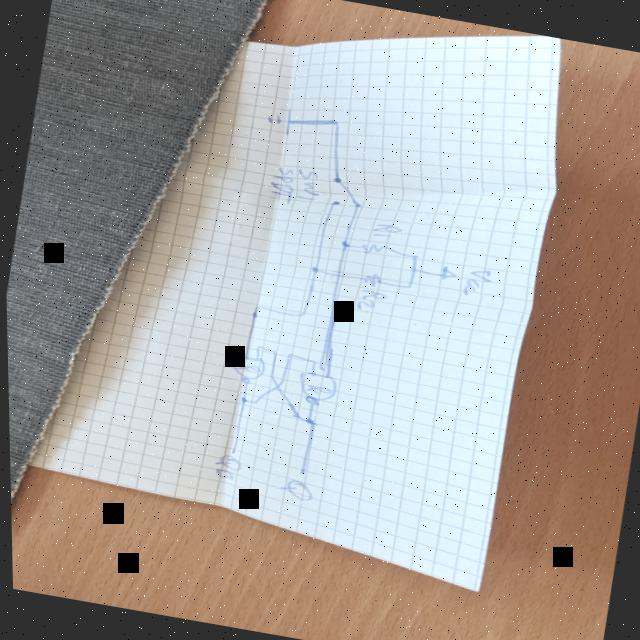crossover: (332, 270, 345, 278), (271, 382, 282, 389)
ground: (263, 102, 295, 134)
junction: (302, 415, 317, 425), (307, 264, 322, 274), (328, 116, 343, 126), (236, 394, 250, 404), (339, 238, 352, 248), (294, 308, 307, 317), (249, 301, 262, 309), (288, 410, 301, 418), (409, 265, 420, 273), (249, 398, 259, 404), (404, 282, 413, 288), (410, 252, 419, 258), (309, 358, 318, 364), (285, 351, 294, 356), (270, 348, 279, 353), (267, 373, 276, 378), (254, 343, 263, 348), (277, 376, 286, 380)
resistor: (359, 240, 393, 256), (359, 270, 384, 288)
source: (437, 264, 459, 280)
switch: (328, 174, 369, 210)
terminal: (295, 465, 308, 475), (224, 448, 237, 453)
text: (290, 165, 326, 202), (265, 164, 298, 204), (458, 264, 494, 300), (209, 451, 245, 482), (277, 476, 314, 502), (354, 286, 389, 312), (368, 219, 404, 242)
